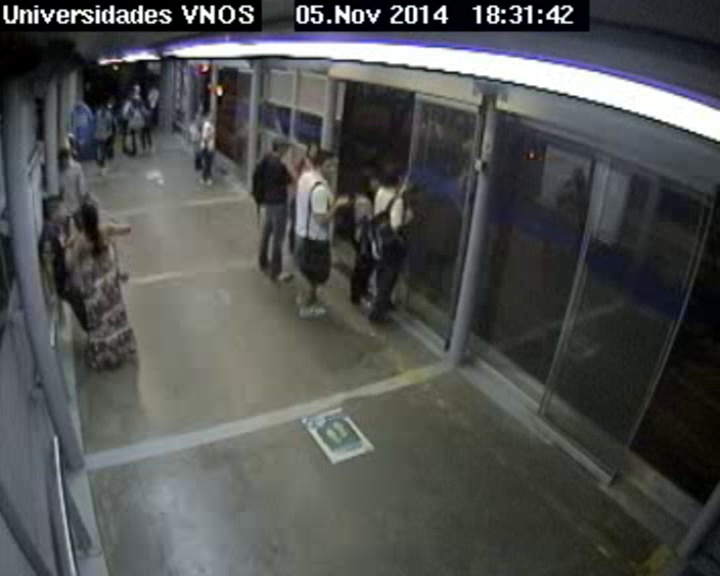person: (43, 196, 68, 225), (76, 203, 99, 230), (314, 150, 336, 177), (378, 162, 399, 187), (357, 170, 378, 193), (270, 135, 290, 157), (305, 140, 320, 159), (57, 149, 73, 166), (205, 111, 215, 122), (106, 98, 115, 108), (191, 112, 200, 122), (139, 92, 148, 101), (98, 99, 106, 109), (133, 84, 141, 93), (147, 80, 154, 88), (126, 92, 133, 100), (131, 99, 138, 107)
